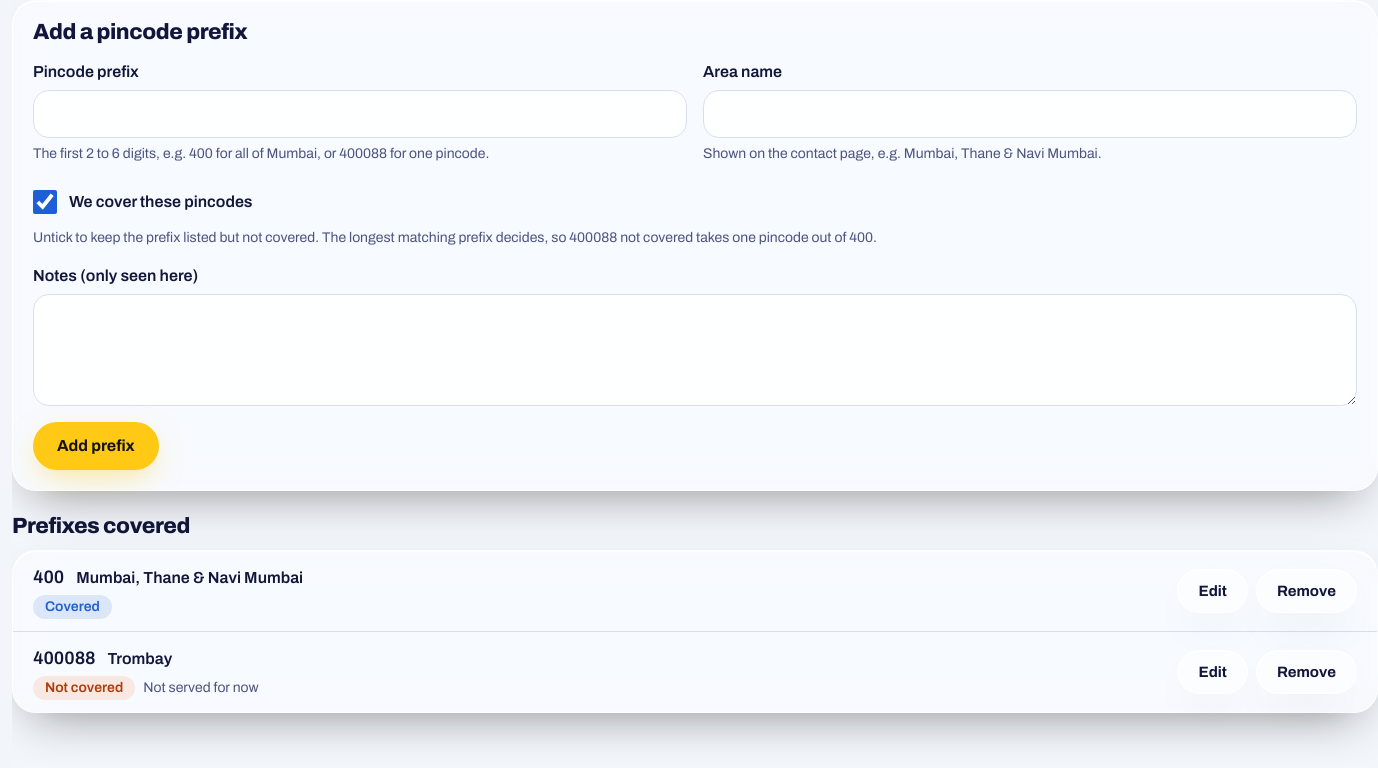
Test case: AreasEditor › Edit fills the form with the prefix fixed and saves the new name
Later steps or results of the test are not shown.
Click the button with aria-label "Edit 400088": (1213, 672) [1177,650,1248,694]
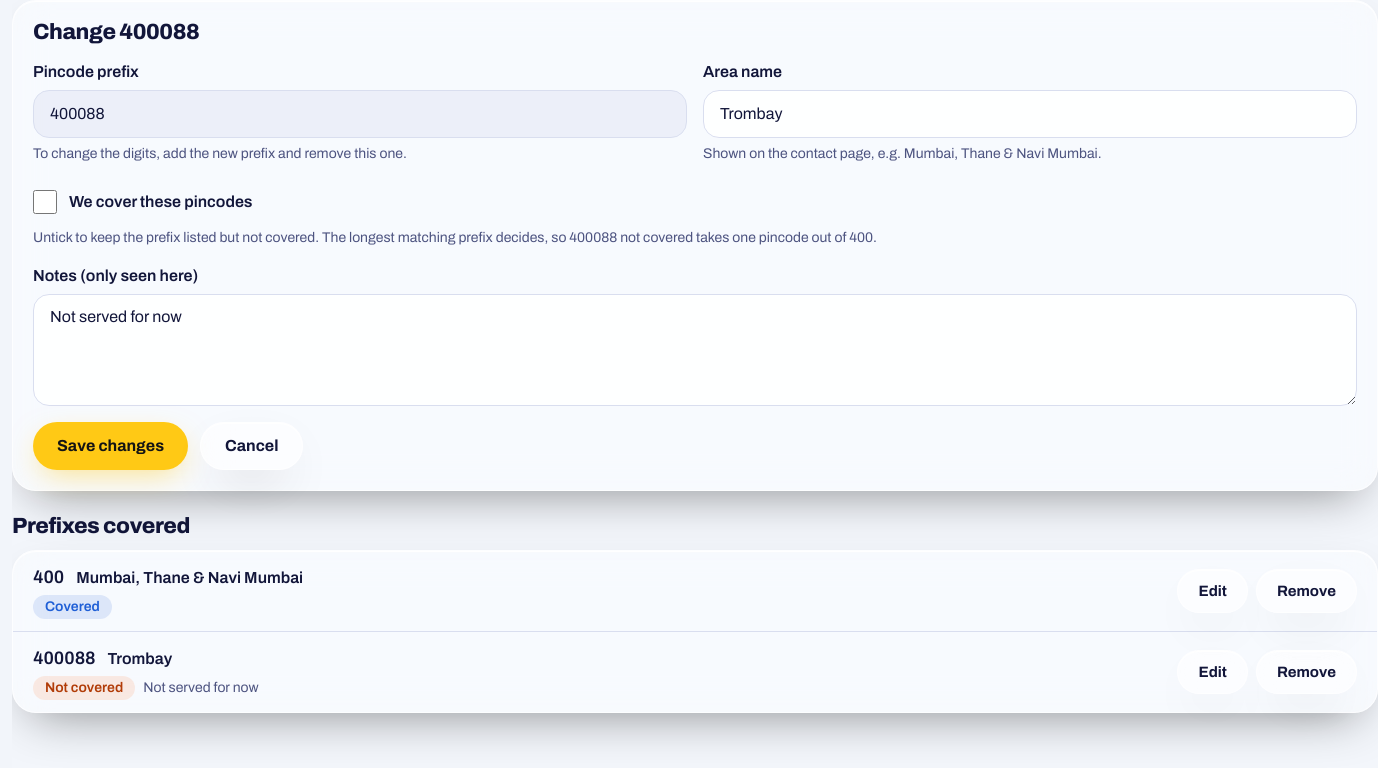
Expected: the field labelled "Pincode prefix" holds "400088", [33,90,687,138]
